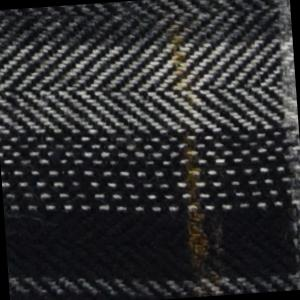Oil Stain: (168, 23, 230, 299)
